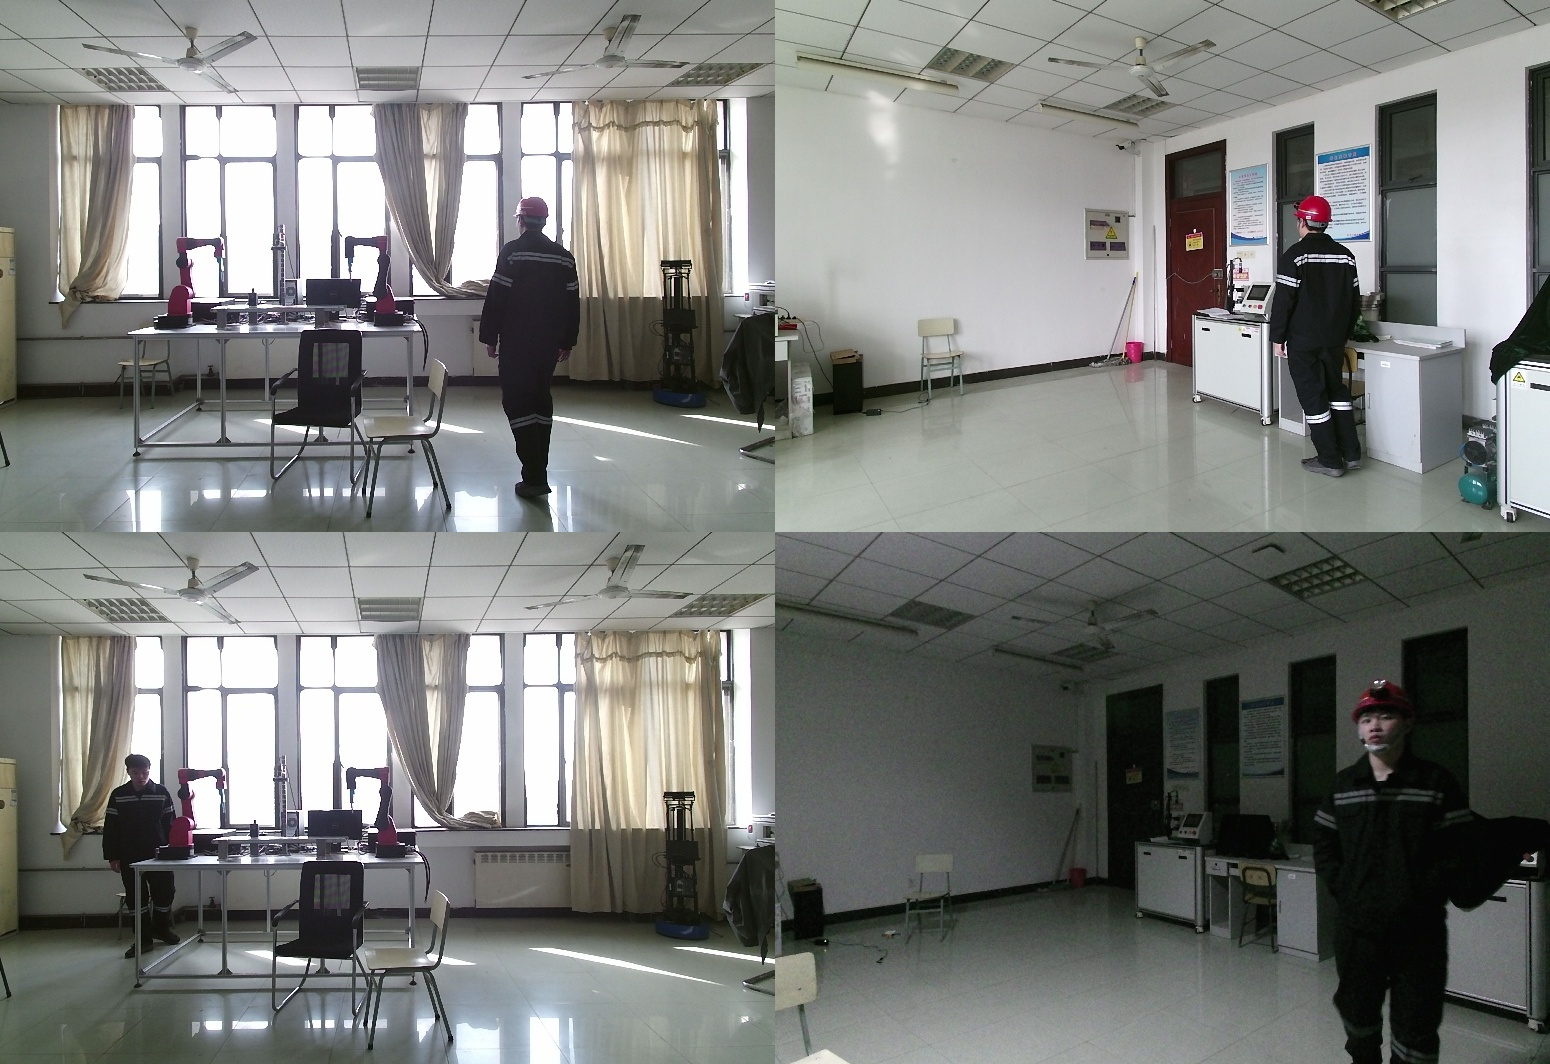person: (1300, 670, 1514, 1064), (483, 195, 598, 500), (1273, 194, 1371, 474), (96, 754, 185, 957)
